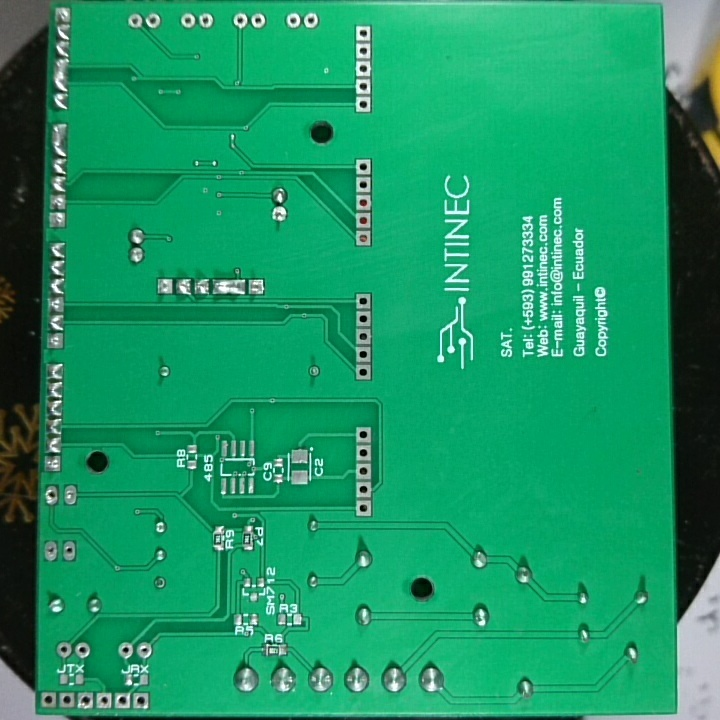F: (351, 226, 376, 249), (247, 275, 270, 300), (41, 538, 60, 568), (269, 203, 293, 225), (44, 330, 67, 352), (38, 689, 59, 712), (44, 295, 68, 315), (51, 4, 76, 23), (353, 174, 376, 194), (93, 689, 113, 712), (47, 211, 71, 230), (353, 93, 374, 114), (42, 453, 63, 474), (143, 10, 163, 32), (354, 290, 374, 312), (156, 275, 175, 298), (135, 640, 154, 663), (47, 192, 71, 210), (353, 57, 373, 78), (354, 208, 374, 229), (354, 498, 375, 518), (196, 12, 218, 31), (73, 640, 95, 659), (116, 641, 135, 663), (352, 40, 375, 58), (113, 689, 131, 712), (353, 158, 377, 175), (44, 484, 61, 508), (62, 484, 79, 508), (127, 10, 143, 35), (61, 539, 77, 564), (151, 570, 167, 595), (353, 193, 374, 212), (354, 478, 373, 499), (352, 76, 374, 94), (354, 362, 373, 382), (283, 9, 301, 30), (302, 10, 319, 32), (54, 641, 73, 660), (354, 326, 373, 345), (354, 461, 373, 480), (177, 11, 197, 29), (250, 12, 270, 30), (354, 21, 372, 41), (75, 689, 93, 709), (354, 346, 374, 364), (130, 691, 147, 712), (355, 309, 374, 327), (307, 363, 324, 383), (58, 689, 75, 709), (354, 426, 374, 443), (230, 12, 249, 29), (355, 446, 373, 463)
P: (50, 121, 72, 159), (51, 56, 73, 92), (210, 277, 247, 298)
